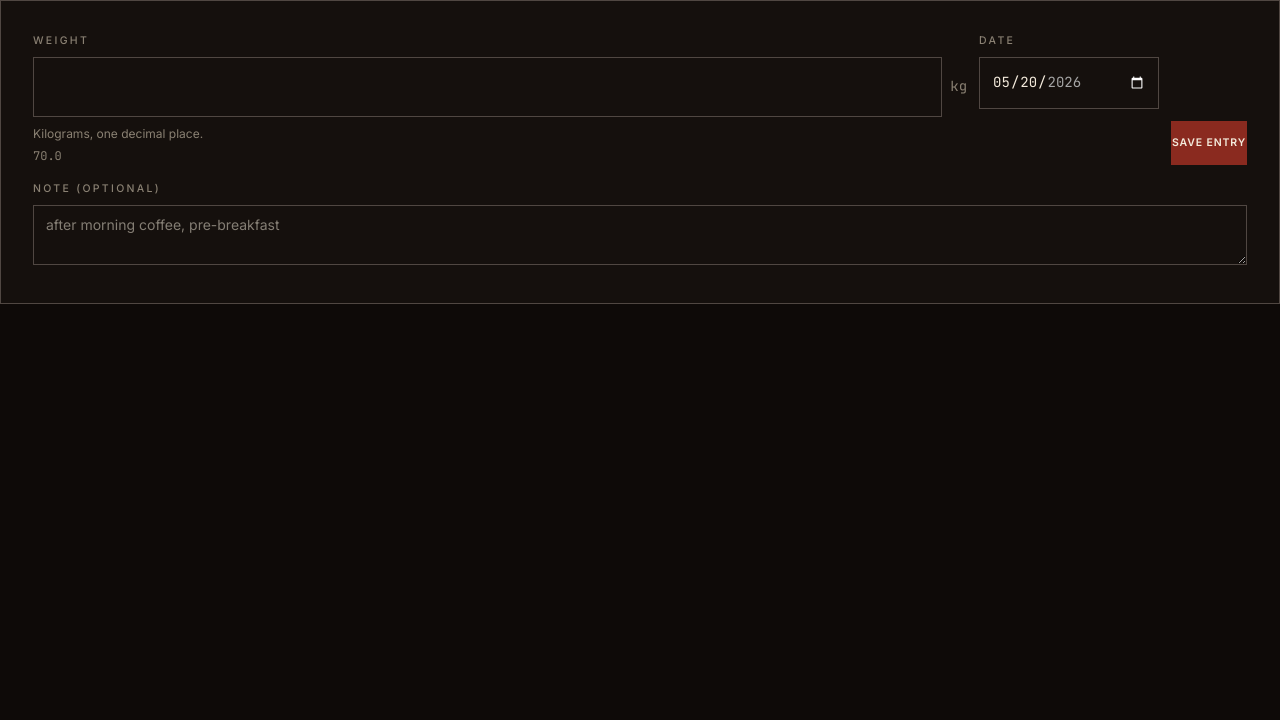
Test: <WeightQuickAdd /> › Task 4.5 R1 C1 — rollback restores the optimistic mirror to the previous weight
The image size is (1280, 720).
Check: the text with test id "weight-quick-add-optimistic-mirror" reads "70.0", box [33,148,62,164]
Type "72.5" into the number field with test id "weight-quick-add-input" at (488, 87), box [33,57,942,117]
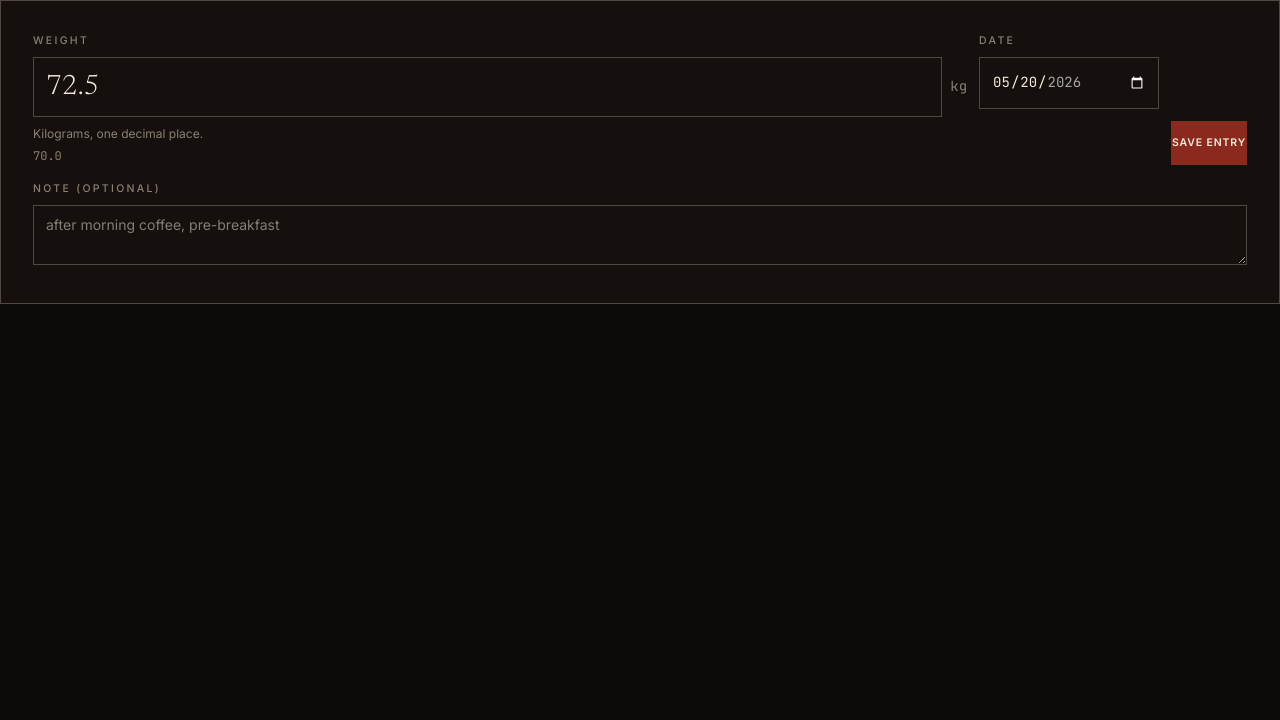
Submit the form with test id "weight-quick-add-submit", box [33,33,1247,270]
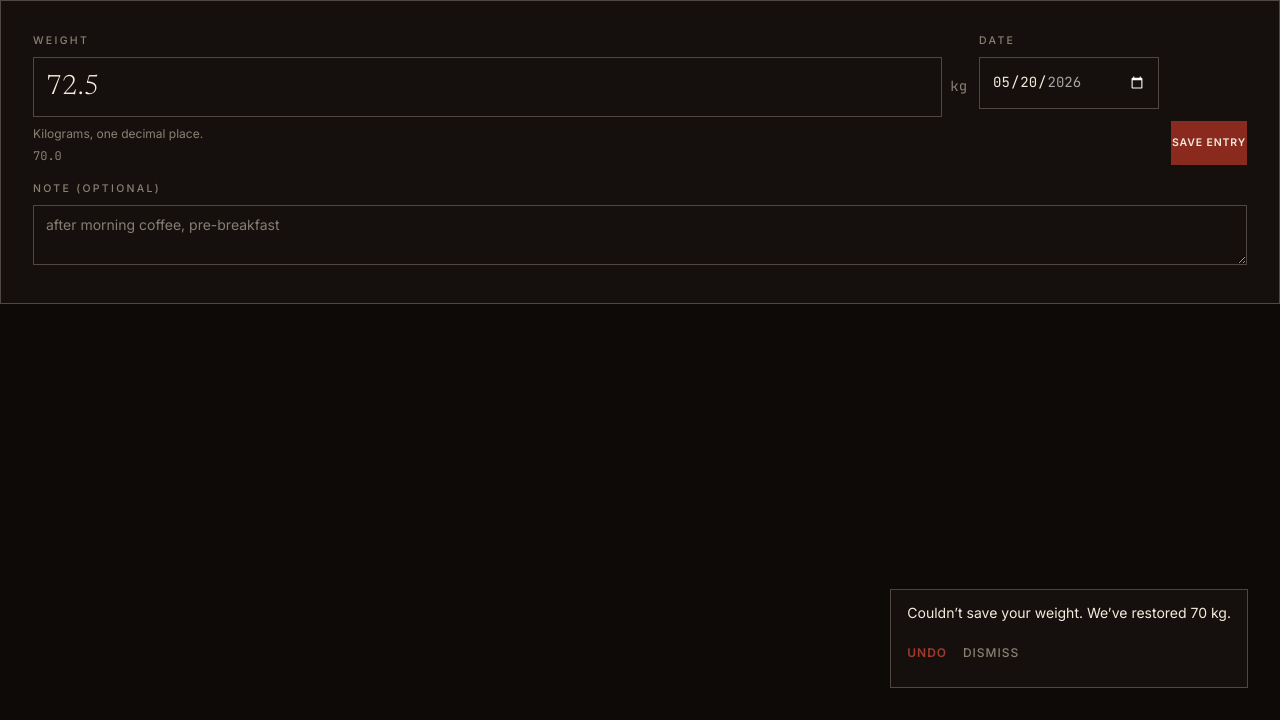
Check: the text with test id "weight-quick-add-optimistic-mirror" reads "70.0", box [33,148,62,164]
Check: the message "Couldn’t save your weight. We’ve restored 70 kg. UNDO DISMISS" is shown, box [890,589,1248,688]
